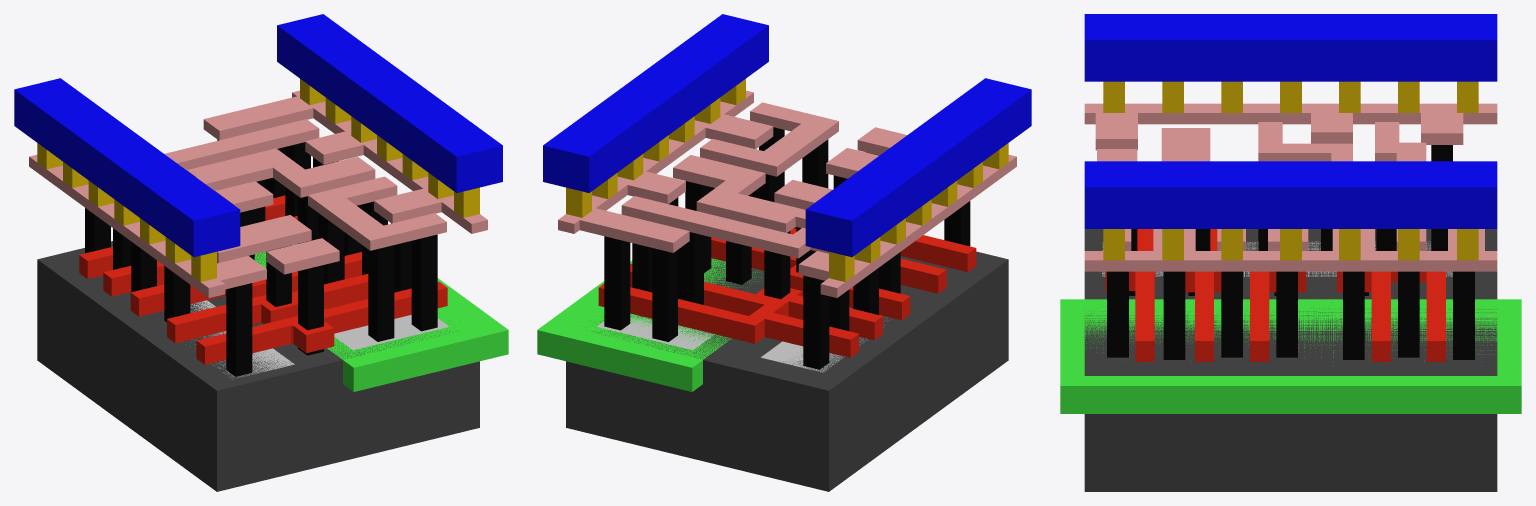
The model's file is sky130_fd_sc_hd__a21o_2.obj.
3 renders of one model, left to right at view 1: azimuth 30°, elevation 25°; view 2: azimuth 150°, elevation 25°; view 3: azimuth 270°, elevation 25°, orthographic. The views are drawn at different scales.
Parts seen in each view (by area): view 1: subs, metal1, li, licon, poly, nwell, mcon, tap, diff; view 2: subs, metal1, li, licon, poly, nwell, mcon, tap, diff; view 3: metal1, subs, nwell, li, licon, poly, mcon, diff.
Part boxes in pixels (box(x1,y1,x2,y2)): subs: box(37, 241, 479, 491); metal1: box(14, 14, 502, 257); li: box(29, 90, 487, 297); licon: box(85, 139, 437, 376); poly: box(79, 195, 447, 364); nwell: box(254, 244, 508, 391); mcon: box(37, 79, 479, 281); tap: box(334, 315, 449, 350); diff: box(190, 300, 294, 379); subs: box(566, 251, 1008, 491); metal1: box(543, 14, 1031, 257); li: box(558, 90, 1016, 297); licon: box(604, 127, 970, 369); poly: box(598, 227, 976, 357); nwell: box(537, 258, 764, 391); mcon: box(566, 79, 1008, 281); tap: box(596, 314, 714, 350); diff: box(761, 307, 888, 372); metal1: box(1084, 14, 1497, 228); subs: box(1084, 229, 1497, 491); nwell: box(1060, 299, 1521, 413); li: box(1084, 103, 1497, 271); licon: box(1107, 145, 1474, 359); poly: box(1105, 229, 1445, 361); mcon: box(1103, 81, 1478, 260); diff: box(1102, 241, 1452, 276).
Bounding box in the file's own units: 3.2 × 2.74 × 3.6.
